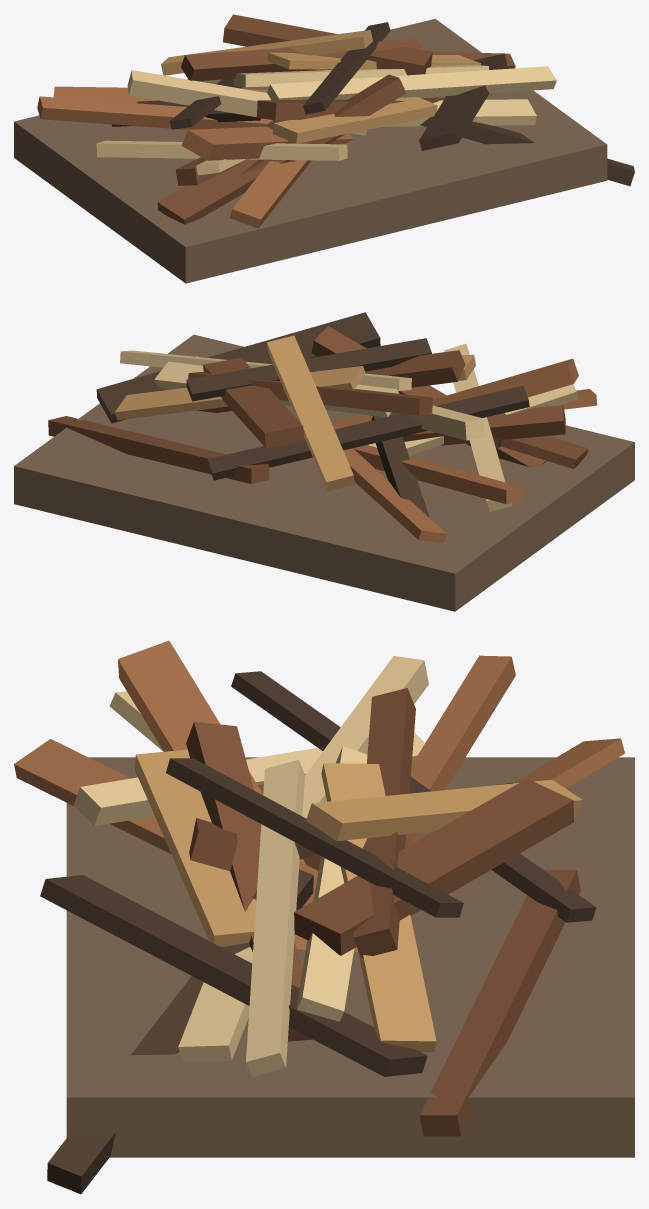
The model's file is slab_scrap_pile.glb.
3 views of the same model, one above another, from view 1: azimuth 30°, elevation 25°; view 2: azimuth 150°, elevation 25°; view 3: azimuth 270°, elevation 25° (orthographic). The views are drawn at different scales.
Parts seen in each view (by area): view 1: slab_scrap_pile; view 2: slab_scrap_pile; view 3: slab_scrap_pile.
Boxes of the visible parts, x1,y1,x2,y2 form: slab_scrap_pile: (14, 14, 634, 283); slab_scrap_pile: (14, 312, 634, 611); slab_scrap_pile: (14, 640, 634, 1194).
Bounding box in the file's own units: 3.81 × 1.08 × 2.62.
